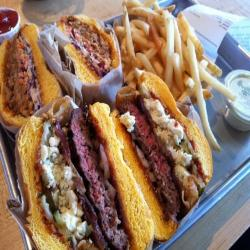burger: (19, 80, 214, 250), (5, 17, 56, 136), (54, 15, 125, 95)
fries: (115, 3, 214, 95)
ketchup: (1, 4, 20, 46)
